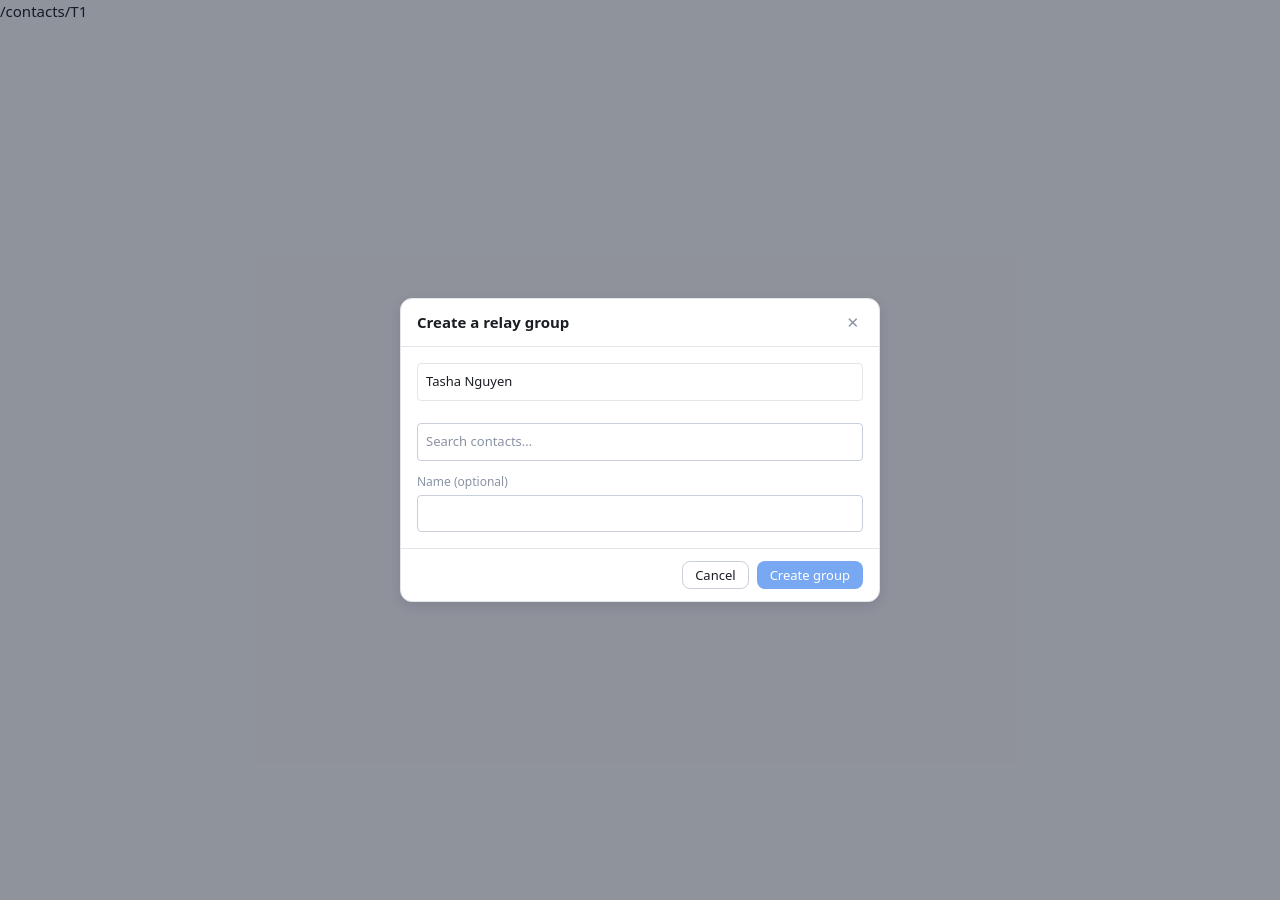
Scenario: CreateRelayGroupModal - the picker › shows a failed preview IN THE PICKER and never opens the confirm dialog
In the dropdown named "Add member": point(640, 442) [417,423,863,460], type "Marcus"
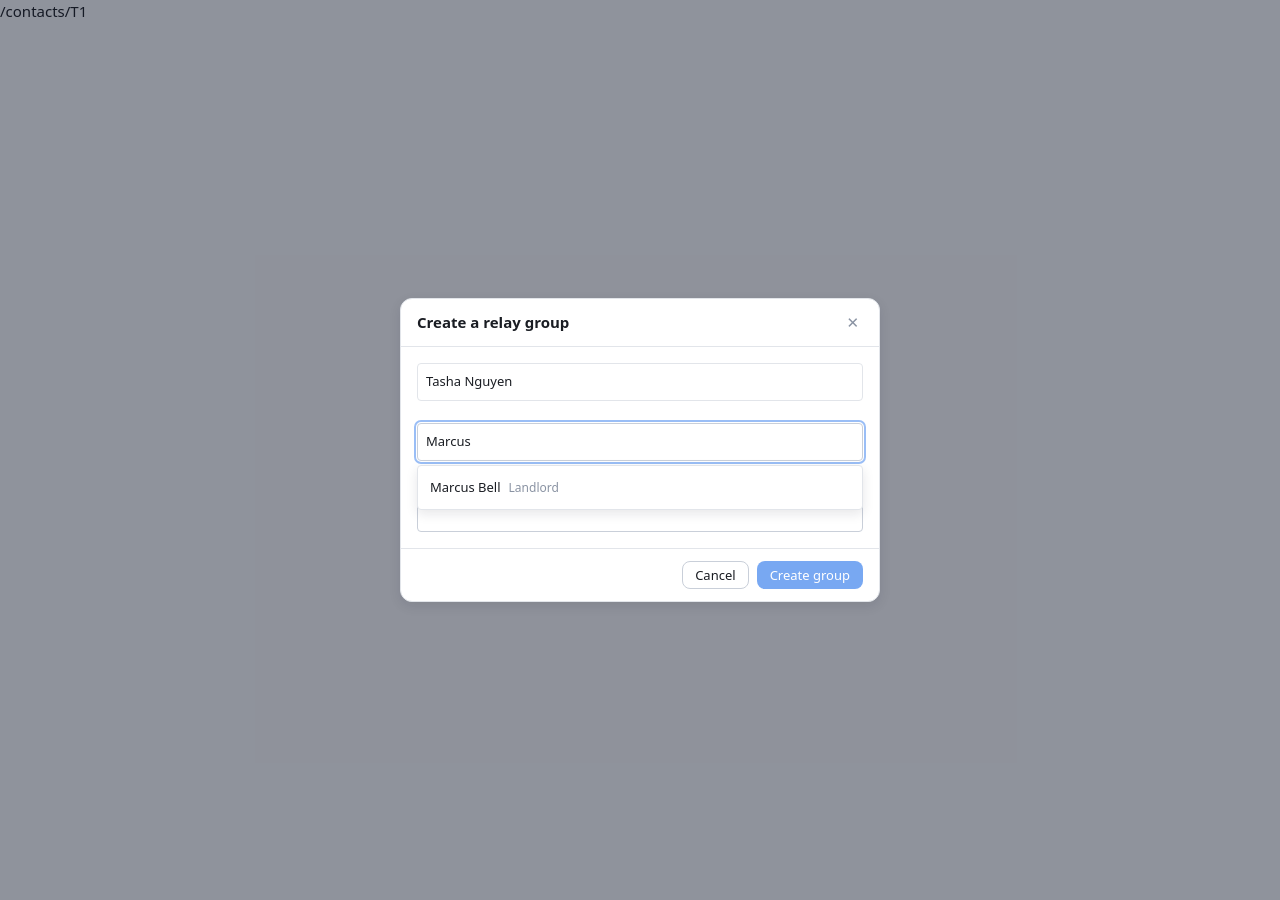
Click the option "Marcus Bell": point(494, 486) [430,478,559,496]
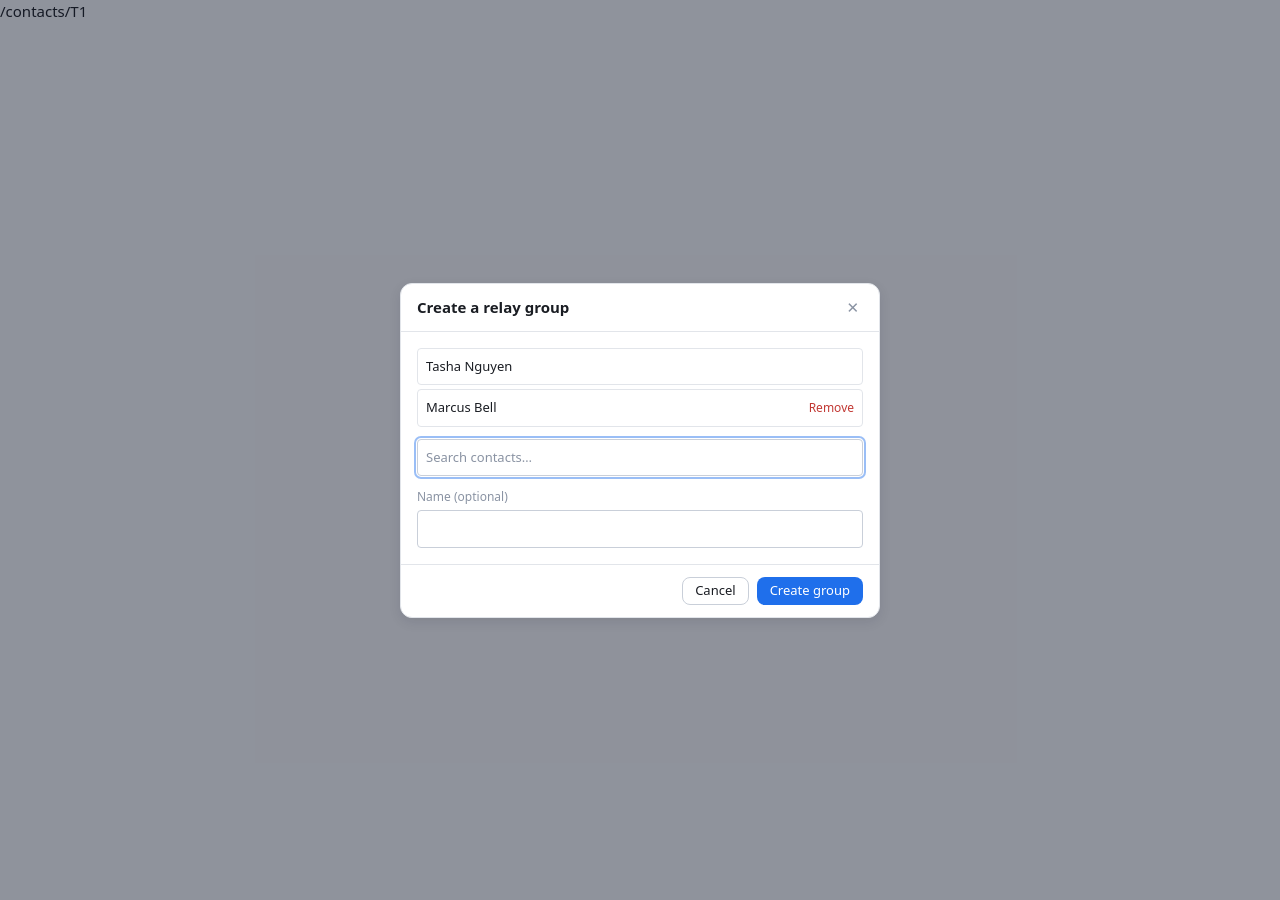
Click the button "Create group": point(810, 590) [757,576,863,604]
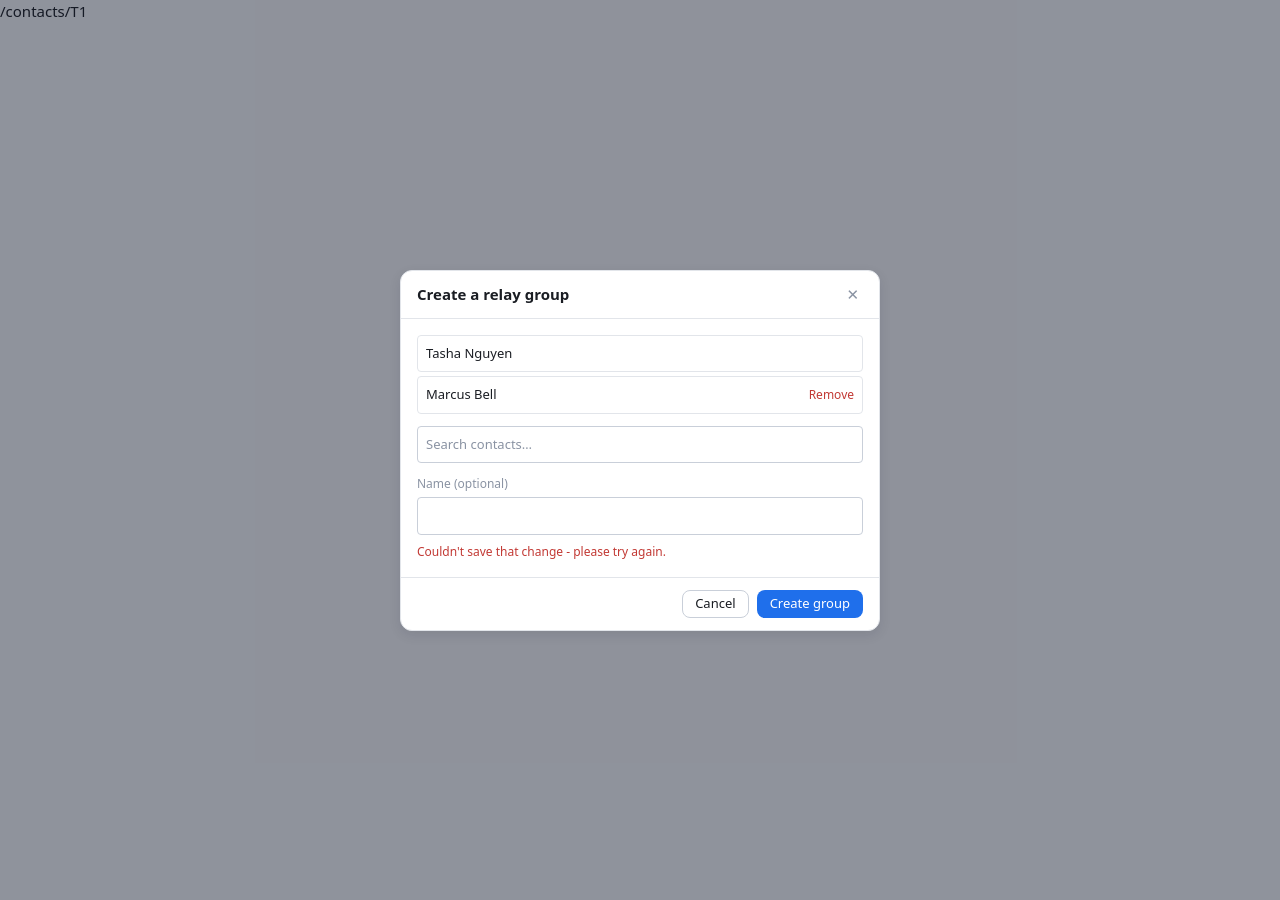
Expected: the dropdown named "Add member" is shown, [417,426,863,463]
Expected: the message shows "please try again", [417,542,666,560]
